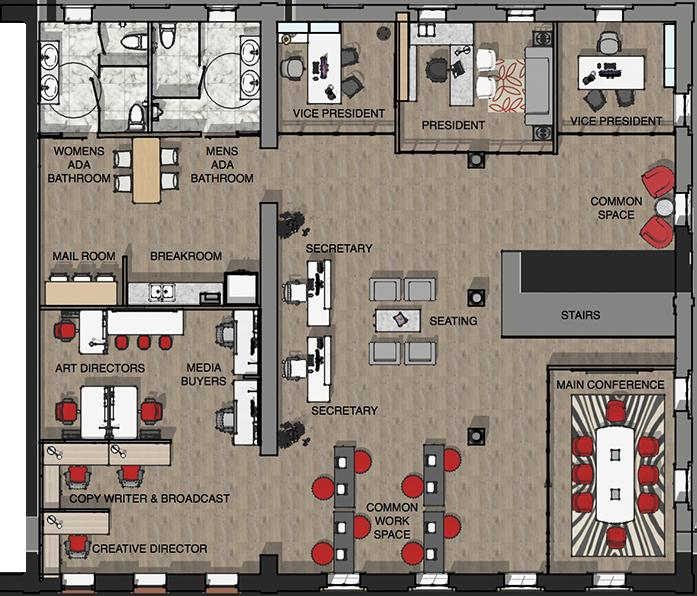room: (39, 307, 269, 580), (38, 136, 267, 306), (548, 365, 675, 573), (398, 22, 554, 151), (555, 22, 675, 134), (277, 21, 396, 133), (38, 21, 149, 134), (150, 22, 261, 134)
